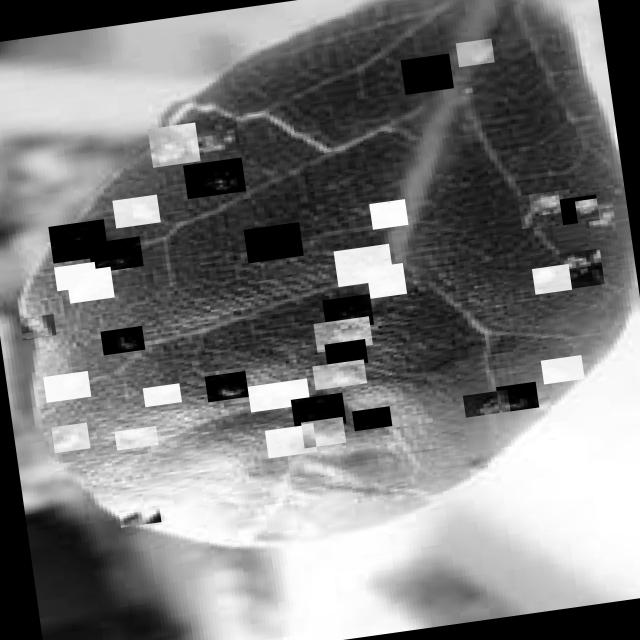scale_insect: (47, 220, 108, 264), (182, 158, 245, 200), (333, 244, 393, 287), (146, 122, 200, 168), (244, 222, 304, 263), (517, 189, 573, 229), (313, 316, 372, 353), (400, 54, 453, 95), (247, 378, 310, 412), (188, 115, 240, 156), (88, 236, 144, 274), (290, 392, 346, 430), (555, 248, 604, 290), (321, 294, 373, 331), (264, 424, 316, 459), (65, 267, 114, 304), (112, 194, 160, 228), (574, 196, 619, 232), (312, 360, 366, 390), (42, 372, 90, 404), (365, 263, 406, 299), (300, 417, 346, 449), (462, 390, 510, 418), (495, 382, 538, 413), (53, 262, 97, 292), (100, 326, 144, 356), (204, 372, 248, 402), (323, 339, 368, 368), (558, 194, 598, 226), (531, 264, 571, 296), (368, 199, 408, 230), (50, 422, 90, 453), (540, 356, 584, 384), (455, 39, 494, 68), (114, 426, 158, 451), (352, 406, 392, 432), (19, 314, 56, 342), (142, 383, 181, 408), (118, 505, 160, 528)
